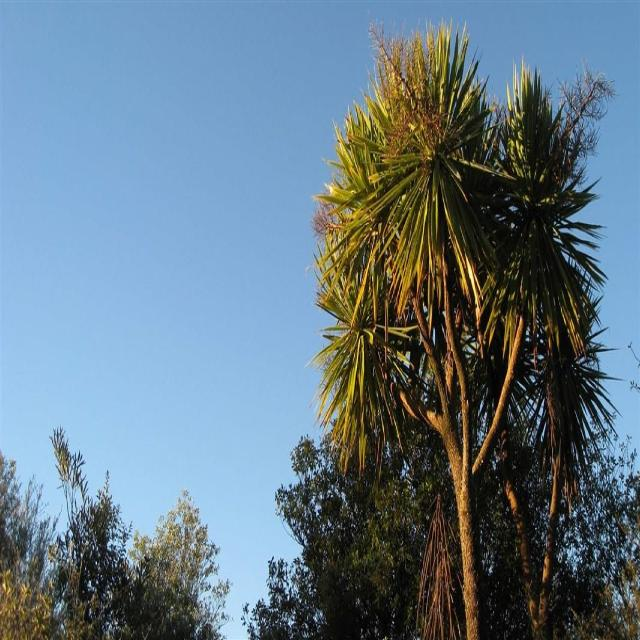Cordyline australis: (328, 38, 567, 640)
